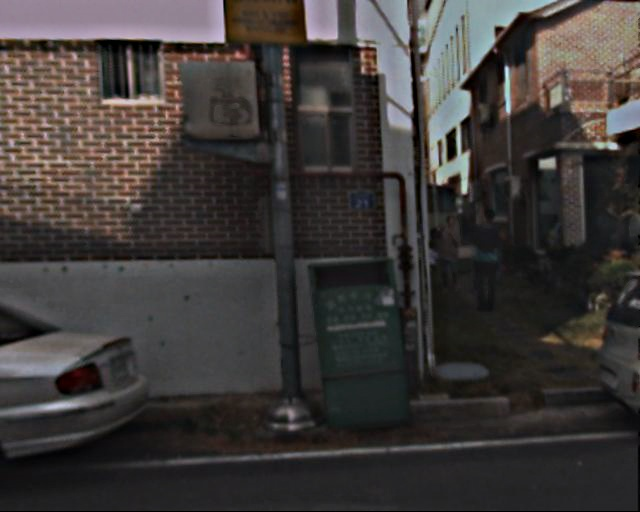person: (466, 208, 510, 316), (432, 214, 468, 299)
